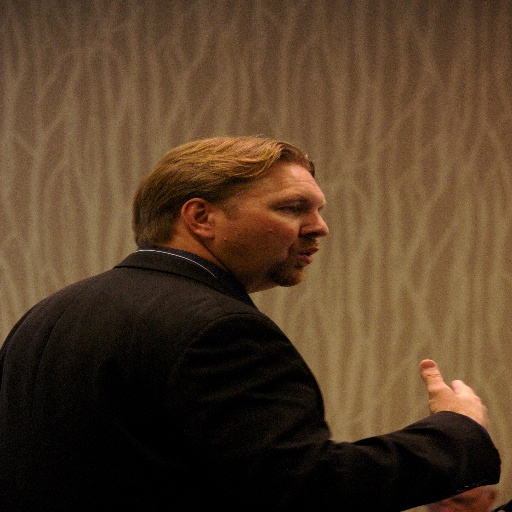hand: (414, 355, 498, 429)
